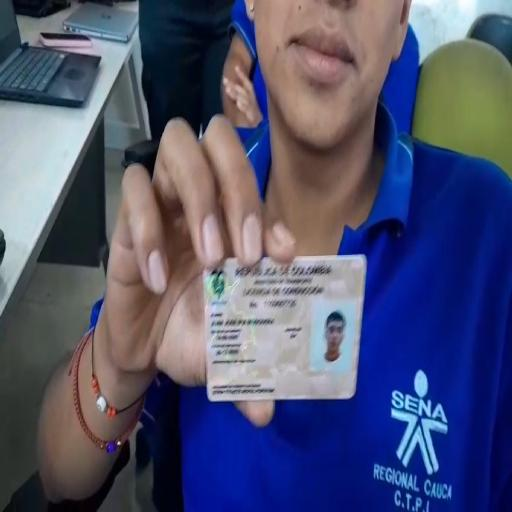tarjeta conduccion: (202, 257, 364, 397)
